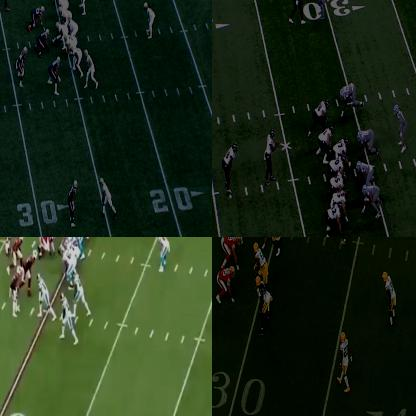CENTER: (334, 136, 350, 156), (54, 21, 66, 47), (59, 237, 72, 245)
DB: (223, 144, 239, 198), (383, 272, 396, 325), (340, 333, 352, 389), (68, 179, 79, 226), (315, 0, 329, 21)
LB: (255, 275, 269, 335), (393, 100, 406, 152), (11, 237, 26, 267), (19, 48, 27, 87), (3, 237, 15, 256), (0, 0, 12, 10)
QB: (264, 126, 276, 186), (69, 237, 86, 257), (68, 15, 78, 34)
SKILL: (214, 266, 235, 304), (8, 263, 21, 315), (325, 202, 344, 236), (72, 268, 87, 311), (36, 274, 52, 312), (60, 294, 72, 336), (99, 177, 112, 215), (155, 237, 169, 270), (336, 189, 349, 223), (144, 2, 154, 37), (85, 48, 94, 84), (290, 0, 306, 17), (77, 0, 87, 18)
